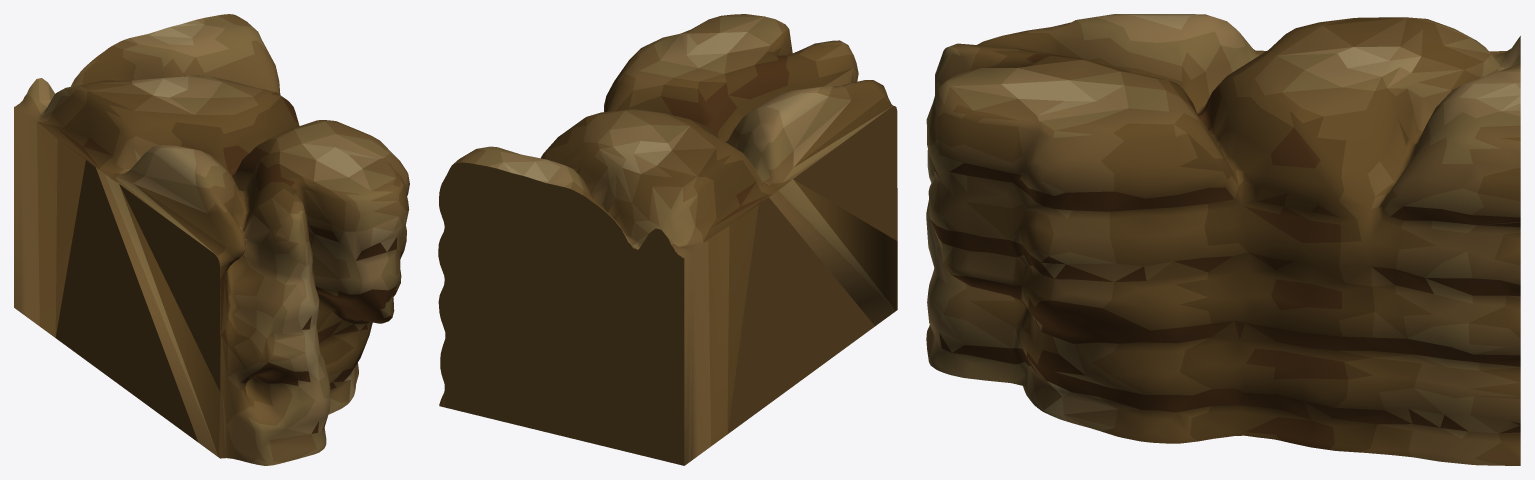
Rendered from ixm_wall_end_r_mid.glb.
The picture shows the model from 3 angles, left to right: view 1: azimuth 30°, elevation 25°; view 2: azimuth 150°, elevation 25°; view 3: azimuth 270°, elevation 25°; orthographic projection. The views are drawn at different scales.
Parts seen in each view (by area): view 1: ixm_wall_end_r_mid; view 2: ixm_wall_end_r_mid; view 3: ixm_wall_end_r_mid.
Part boxes in pixels (x1=…): ixm_wall_end_r_mid: x1=14, y1=14, x2=409, y2=465; ixm_wall_end_r_mid: x1=438, y1=14, x2=897, y2=465; ixm_wall_end_r_mid: x1=926, y1=14, x2=1520, y2=465.
Bounding box in the file's own units: 11.01 × 10.79 × 18.13.
